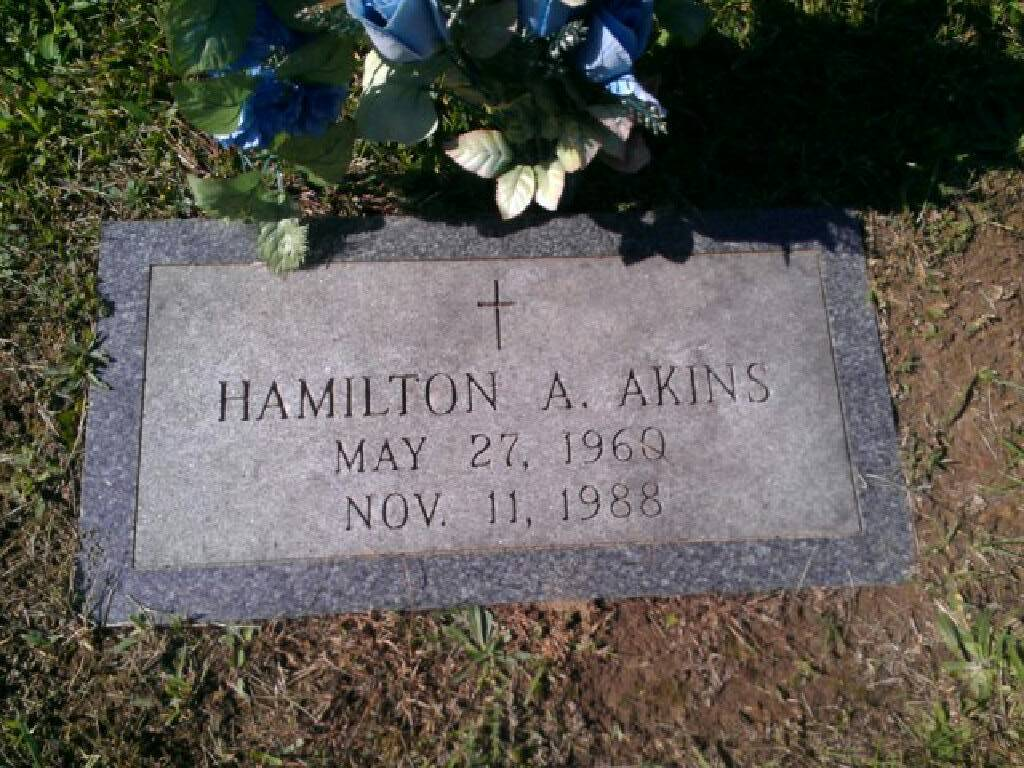flat: (80, 209, 928, 634)
